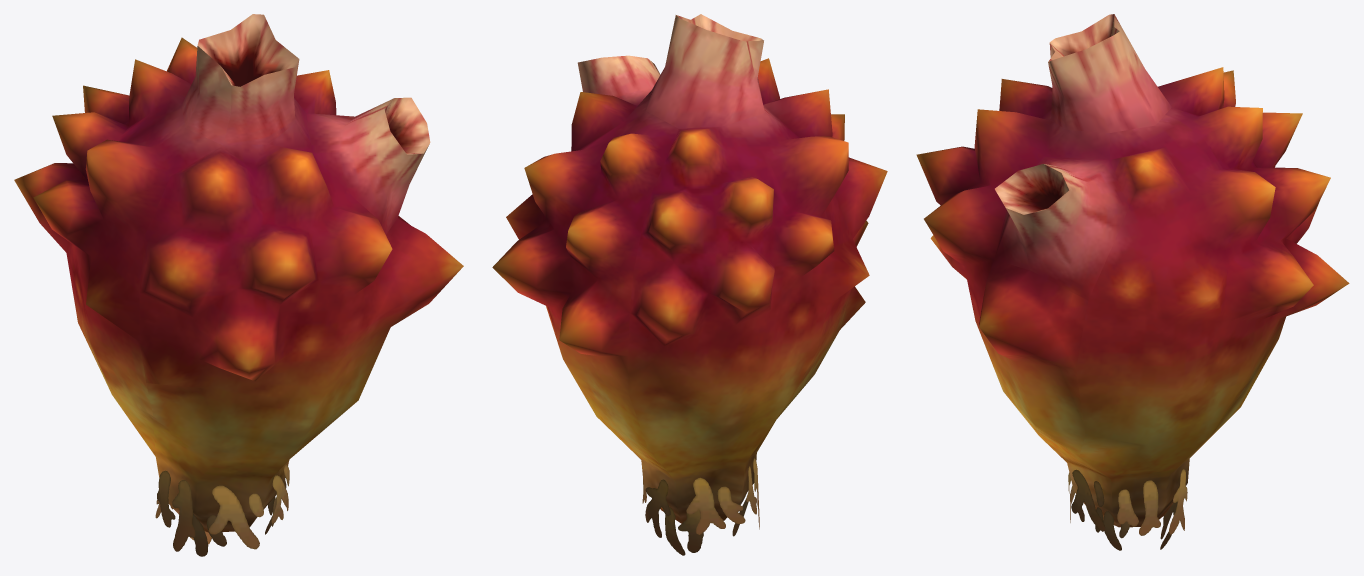
Rendered from sea-pineapple.glb.
3 renders of one model, left to right at view 1: azimuth 30°, elevation 25°; view 2: azimuth 150°, elevation 25°; view 3: azimuth 270°, elevation 25°, orthographic. The views are drawn at different scales.
Parts seen in each view (by area): view 1: DiveFishHoya__mHoya; view 2: DiveFishHoya__mHoya; view 3: DiveFishHoya__mHoya.
Boxes of the visible parts, x1,y1,x2,y2 form: DiveFishHoya__mHoya: (14, 14, 463, 556); DiveFishHoya__mHoya: (492, 14, 887, 555); DiveFishHoya__mHoya: (916, 14, 1349, 550).
Size of the model in its own units: 0.6443 by 1 by 0.7374.
1 material, 1 textured.
